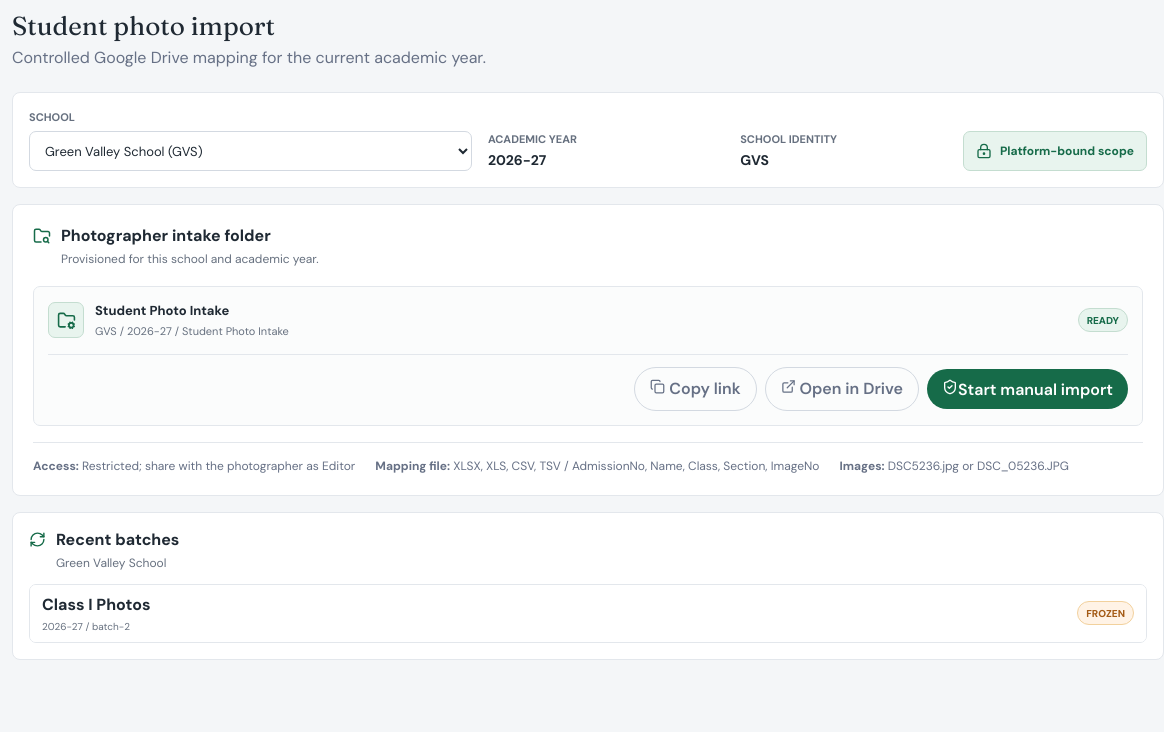
Test: PhotoImportPanel › rejects a detail for another school and filters foreign batches out of history
Click the button "Class I Photos 2026-27 / batch-2 FROZEN": point(96, 604) x1=30 y1=585 x2=1146 y2=642
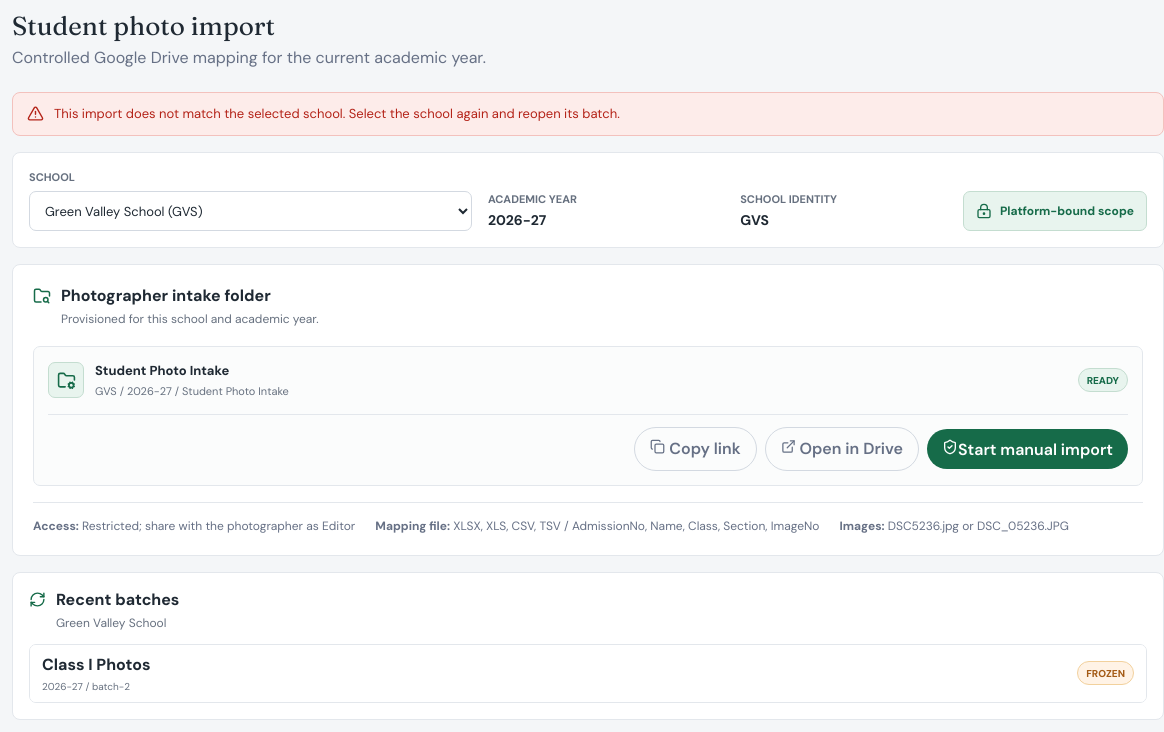
Now the message shows "This import does not match the selected school", box x1=54 y1=105 x2=620 y2=122
